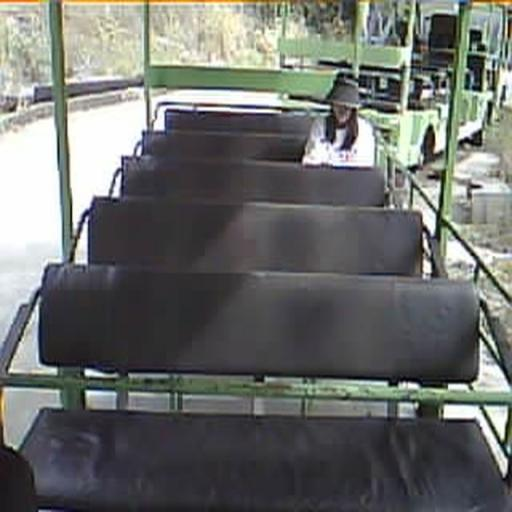persona: (300, 74, 378, 170)
